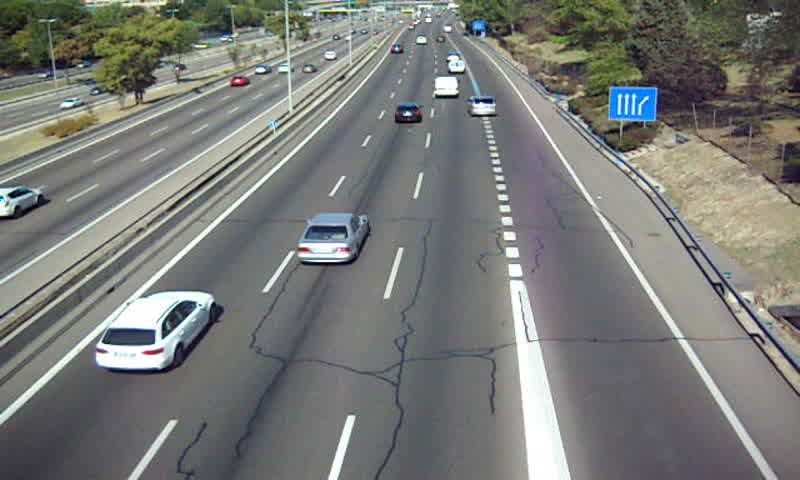car: (94, 291, 215, 372), (296, 212, 369, 263), (469, 96, 497, 117), (394, 103, 422, 124)
van: (433, 76, 459, 98), (450, 59, 466, 75)
